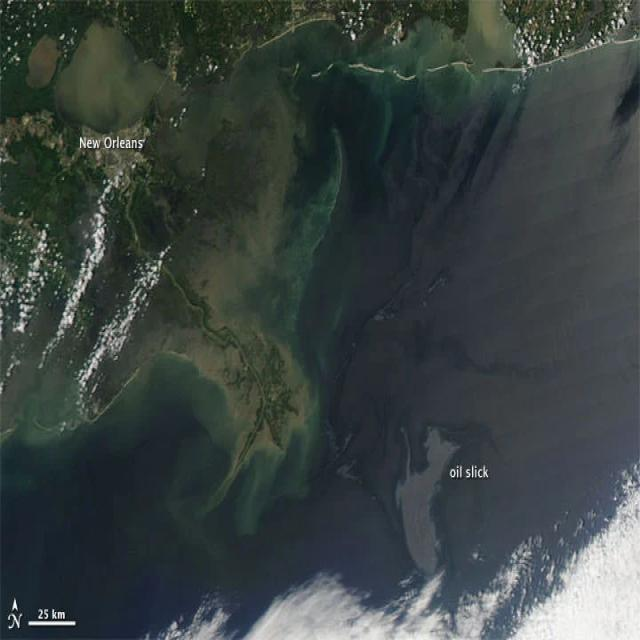algal: (159, 404, 308, 534), (281, 126, 350, 345), (56, 23, 165, 131), (397, 99, 501, 190), (613, 67, 639, 126)
oil spill: (396, 428, 457, 573)
